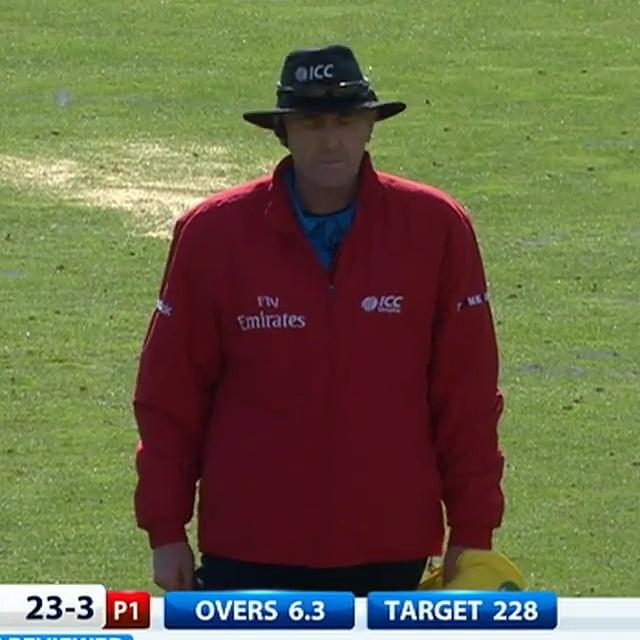umpire: (106, 13, 544, 595)
